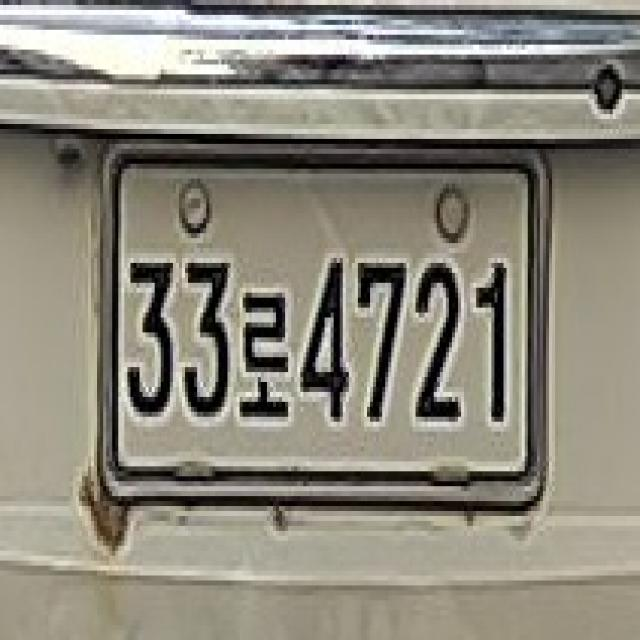1: (470, 258, 510, 427)
2: (410, 258, 464, 427)
3: (185, 253, 231, 422), (130, 258, 176, 417)
4: (300, 253, 349, 422)
7: (352, 253, 409, 432)
license_plate: (112, 164, 531, 476)
lo: (237, 283, 291, 427)
